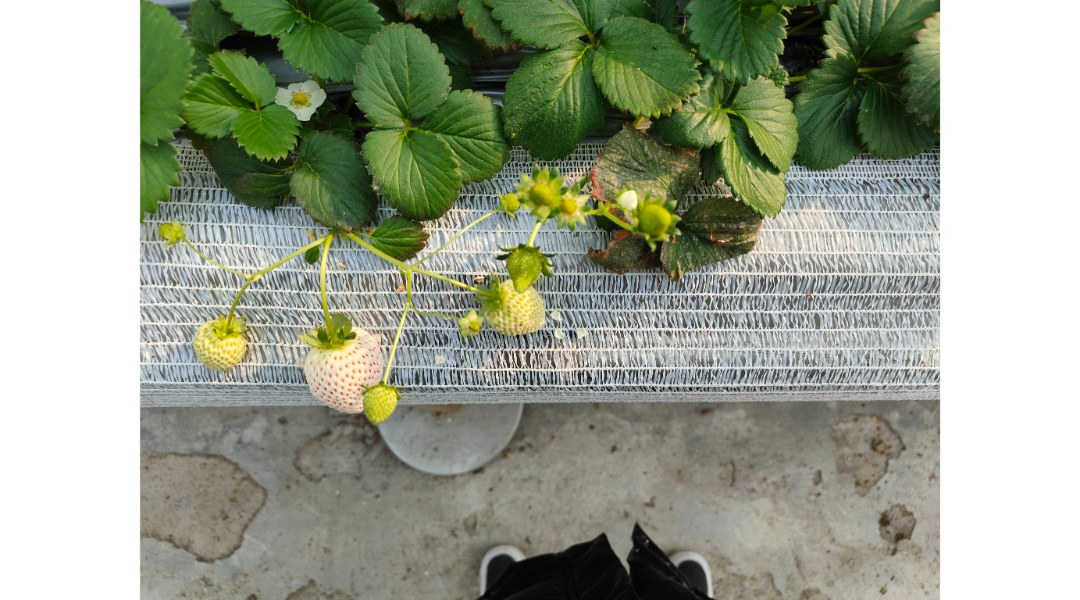berry: (301, 316, 383, 415), (475, 277, 552, 337), (186, 316, 253, 372), (496, 243, 552, 289), (516, 167, 563, 221), (633, 192, 676, 243), (363, 380, 401, 429), (157, 219, 188, 247), (452, 309, 481, 336), (495, 195, 525, 216)
flower: (275, 76, 327, 123)
strain: (417, 212, 492, 265), (262, 241, 321, 272), (193, 247, 246, 275), (352, 237, 400, 265), (384, 315, 406, 369), (419, 271, 471, 290), (226, 284, 244, 330), (405, 273, 412, 304)
